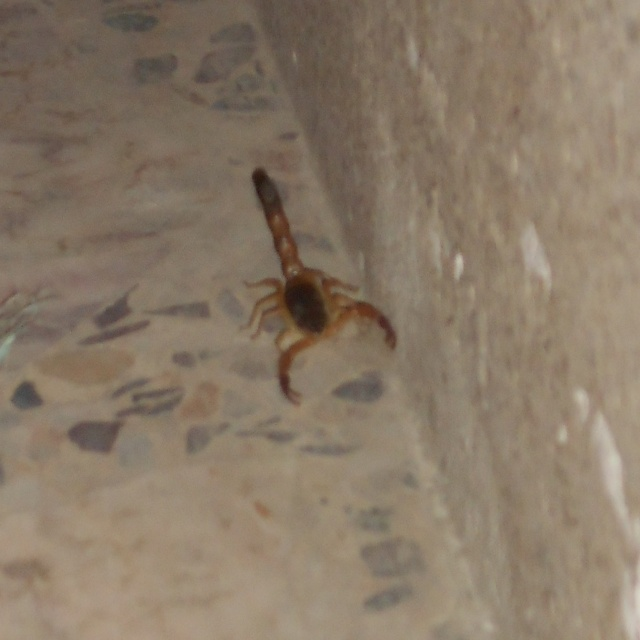Scorpion: (240, 164, 399, 407)
